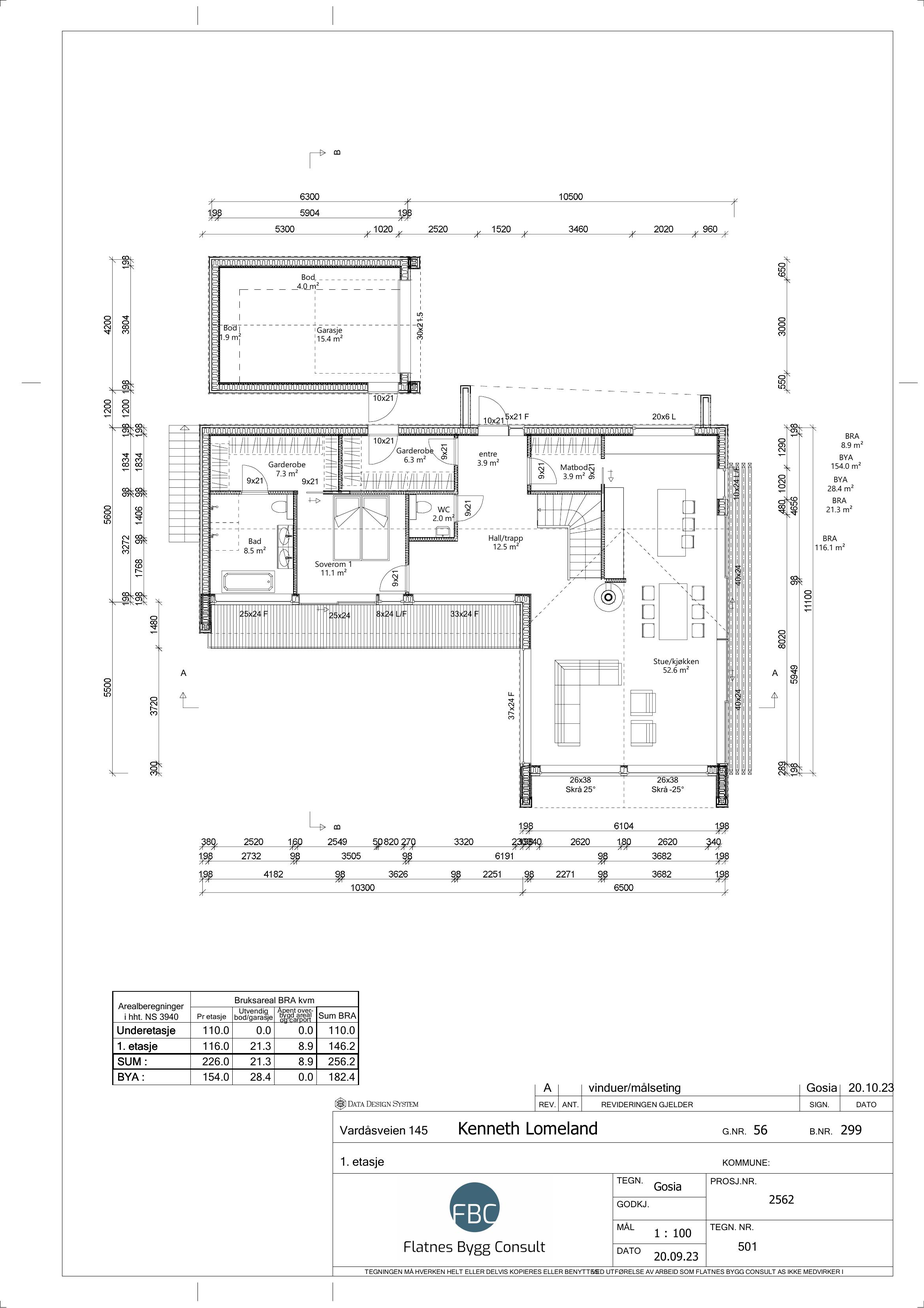plantegning: (156, 225, 764, 820)
